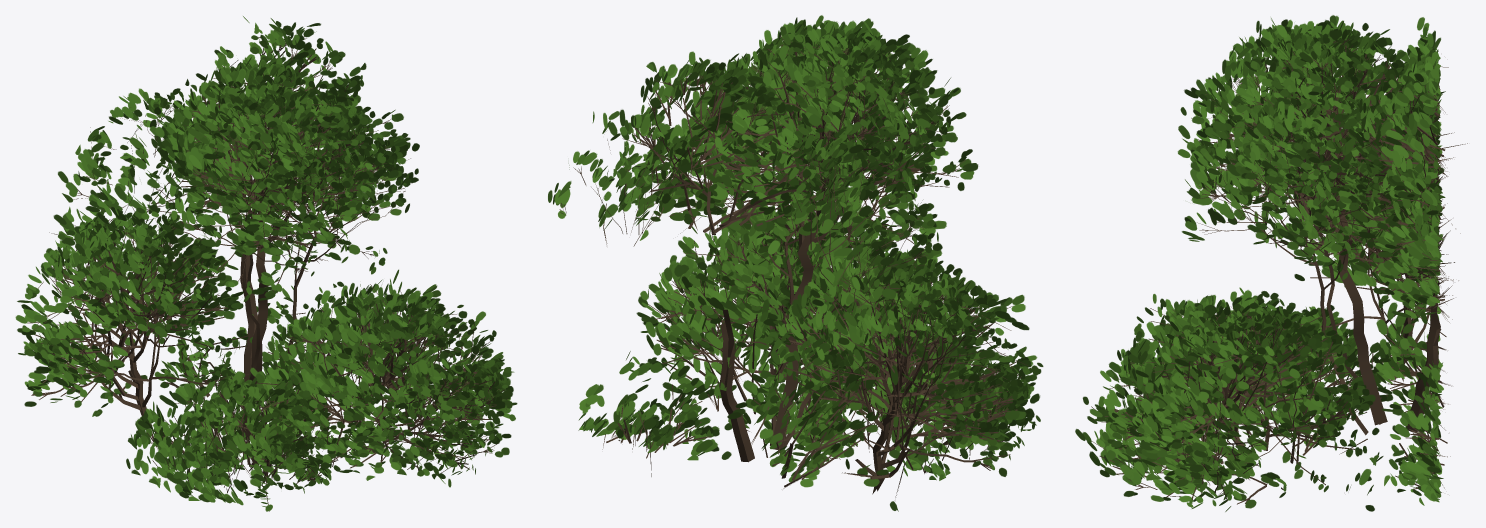
The picture shows the model from 3 angles, left to right: view 1: azimuth 30°, elevation 25°; view 2: azimuth 150°, elevation 25°; view 3: azimuth 270°, elevation 25°; orthographic projection. The views are drawn at different scales.
Visible parts, largest first — view 1: oak 01.001_trunk_Mat.001_0.329; view 2: oak 01.001_trunk_Mat.001_0.329; view 3: oak 01.001_trunk_Mat.001_0.329.
Part boxes in pixels (x1,y1,x2,y2): oak 01.001_trunk_Mat.001_0.329: (15,16,517,511); oak 01.001_trunk_Mat.001_0.329: (548,15,1043,511); oak 01.001_trunk_Mat.001_0.329: (1075,15,1467,511).
Size of the model in its own units: 4.04 by 3.6 by 3.05.
2 materials, 1 textured.
